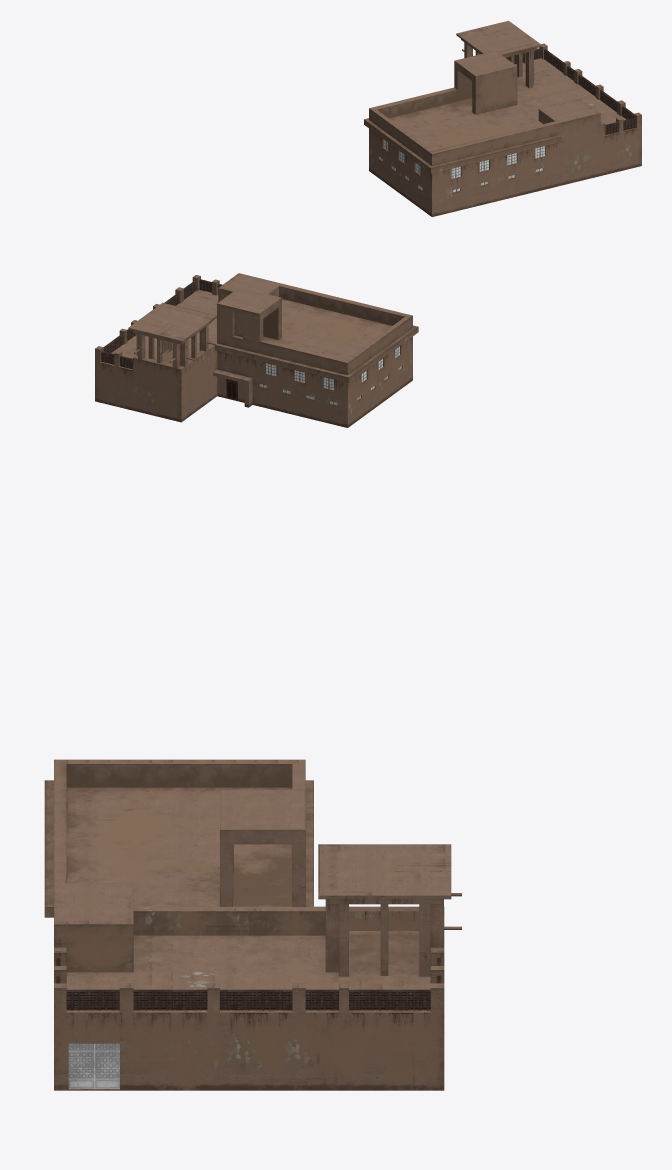
The model's file is dxb-house.glb.
The picture shows the model from 3 angles, top to bottom: view 1: azimuth 30°, elevation 25°; view 2: azimuth 150°, elevation 25°; view 3: azimuth 270°, elevation 25°; orthographic projection. The views are drawn at different scales.
Visible parts, largest first — view 1: Cube.004_6, Cube.003_0; view 2: Cube.004_6, Cube.003_0; view 3: Cube.003_0, Cube.004_6, Plane.006_5, Plane.036_14, Plane.005_4, Plane.039_16, Plane.035_13, Plane.038_15, Plane.034_12, Plane.040_17.
Boxes of the visible parts, box(x1,y1,x2,y2) form: Cube.004_6: box(364, 50, 560, 216); Cube.003_0: box(456, 20, 641, 185); Cube.004_6: box(213, 283, 418, 427); Cube.003_0: box(95, 273, 281, 422); Cube.003_0: box(54, 844, 461, 1090); Cube.004_6: box(44, 759, 313, 917); Plane.006_5: box(68, 1043, 119, 1088); Plane.036_14: box(228, 989, 283, 1010); Plane.005_4: box(66, 989, 119, 1010); Plane.039_16: box(338, 989, 393, 1010); Plane.035_13: box(173, 989, 228, 1010); Plane.038_15: box(284, 989, 338, 1010); Plane.034_12: box(118, 989, 173, 1010); Plane.040_17: box(386, 989, 430, 1010).
Size of the model in its own units: 60.38 by 8.64 by 25.44.
Materials: 6 (3 with a texture image).
